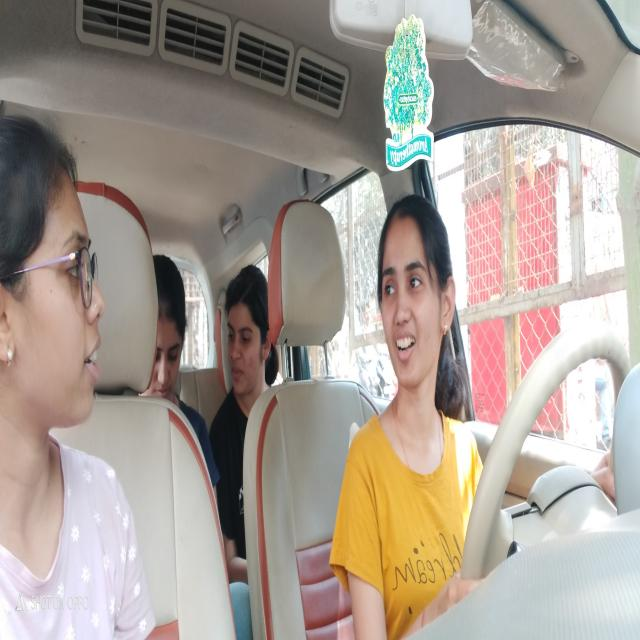LeftRight: (370, 190, 459, 409)
person: (1, 115, 110, 458), (218, 264, 270, 395), (155, 250, 185, 408)
talking: (388, 324, 419, 366), (80, 343, 106, 385)
